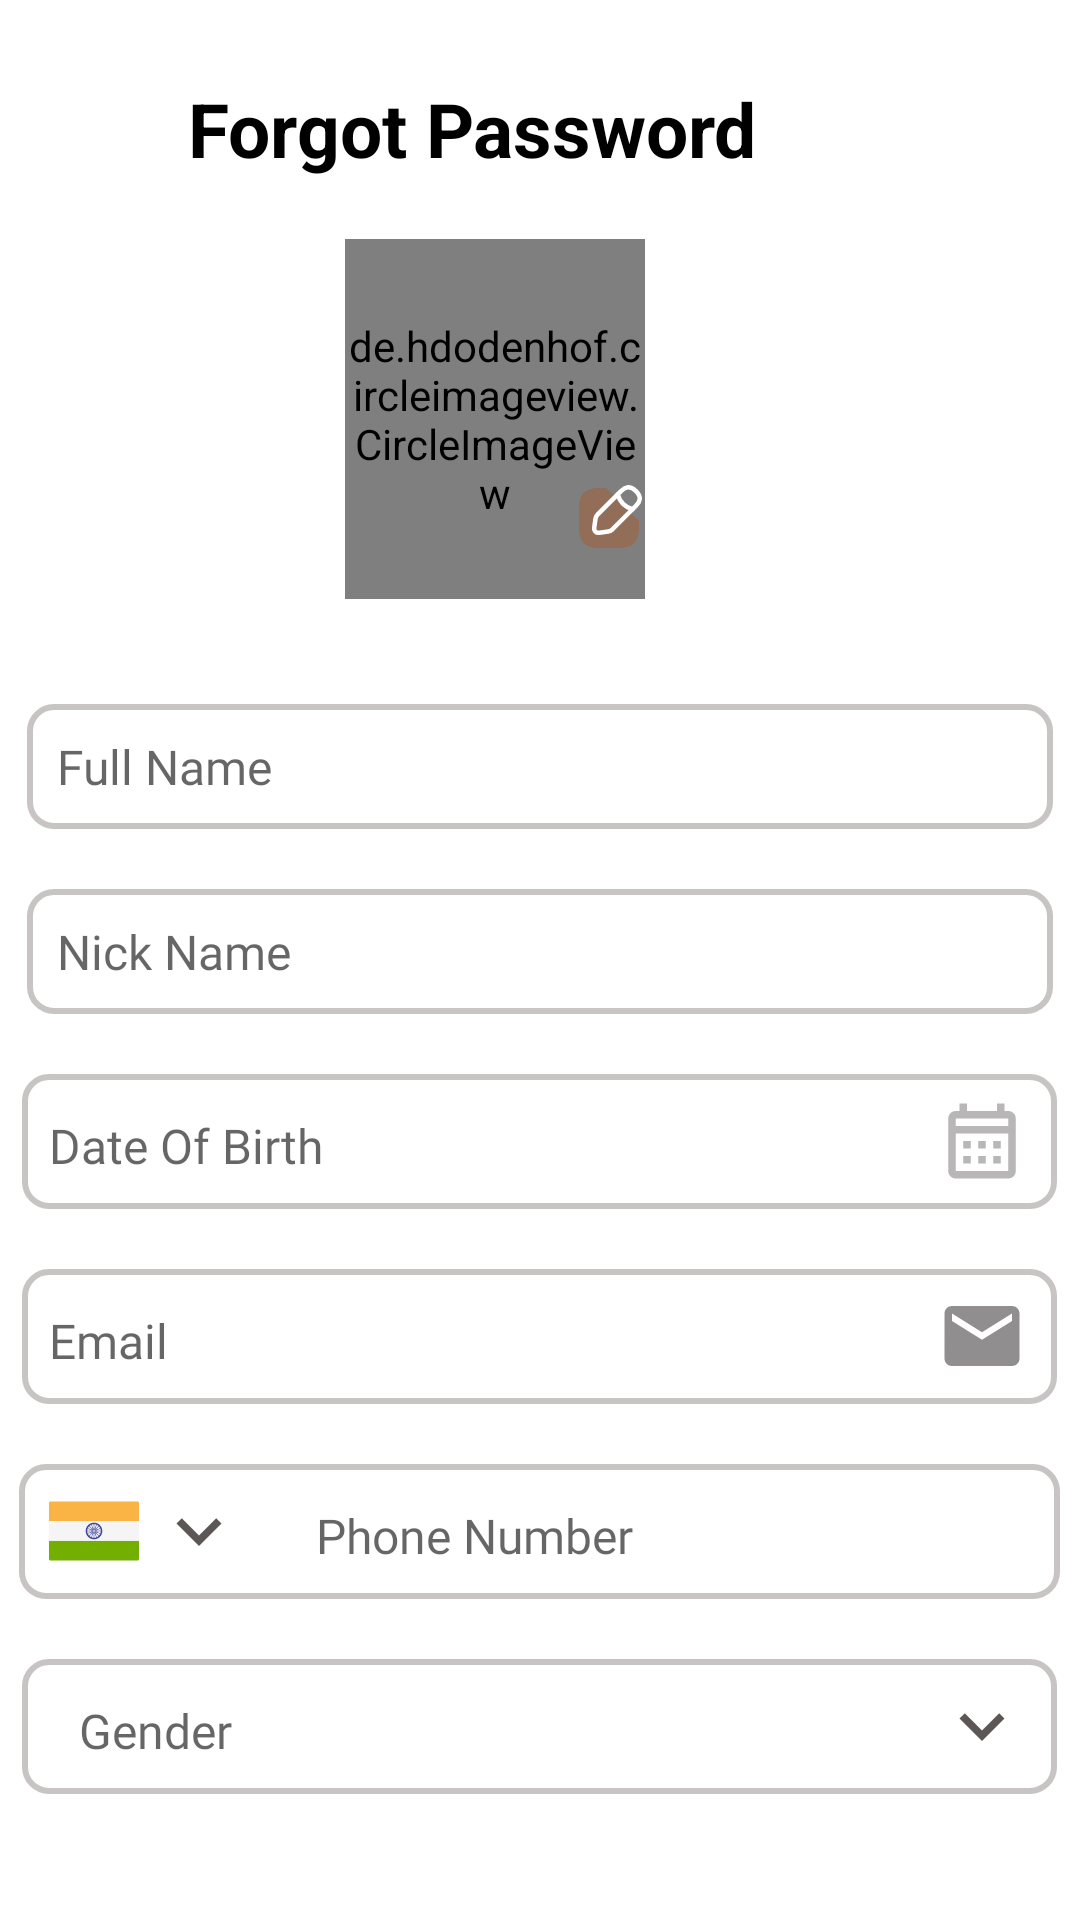

Screen size 1080px x 1920px. Icon name, then its box in pixels as [left=x1, top=y1, right=x2, bottom=y2]:
calendar month: [left=948, top=1103, right=1016, bottom=1179]
edit: [left=579, top=485, right=642, bottom=548]
flag: [left=49, top=1501, right=139, bottom=1561]
